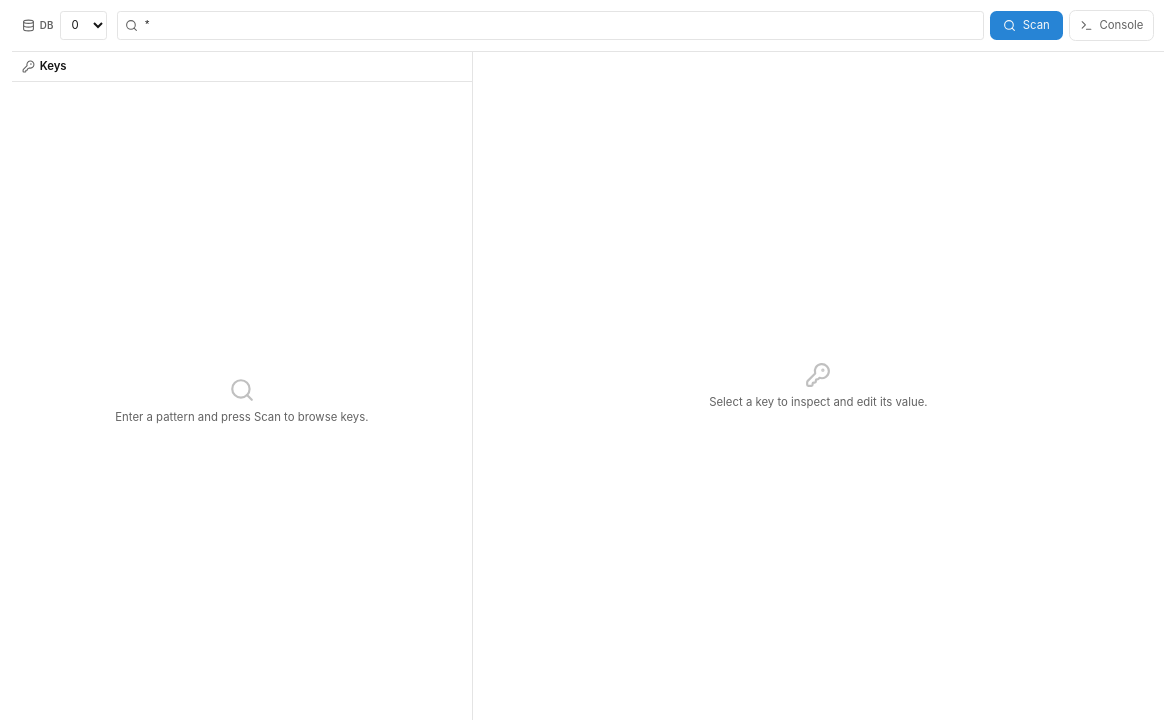
Test: RedisKeyBrowser › deletes the selected key via del and removes it from the list
This screenshot has width=1164, height=720.
Click the button "Scan" at (1027, 25), box [990,11,1063,40]
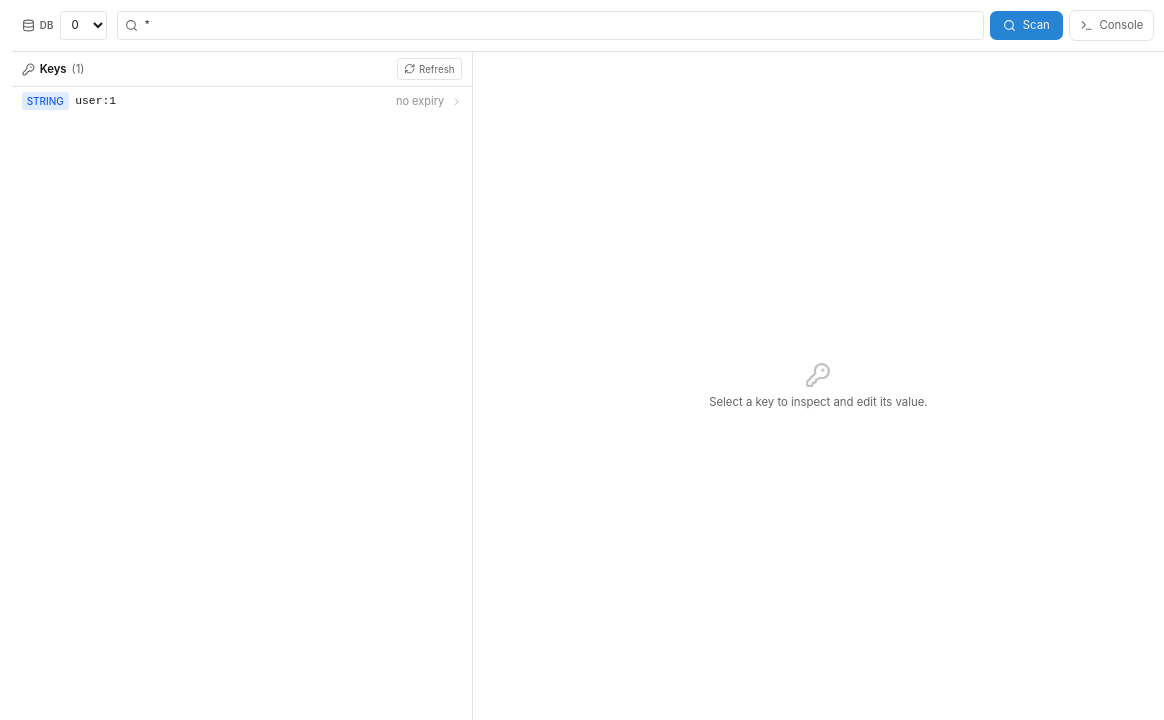
Click the text "user:1" at (96, 101), box [75,95,116,107]
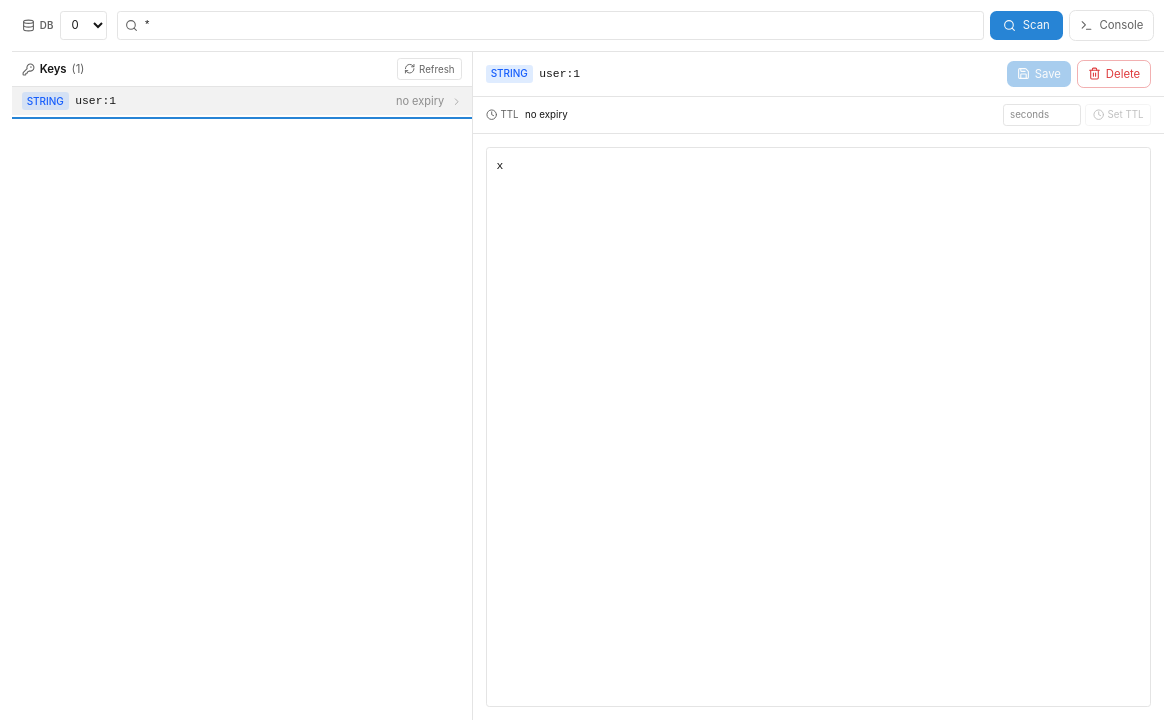
Result: the text box showing "x" is shown at [486,147,1151,707]
Click the button "Delete" at (1114, 74), box [1077,60,1151,88]
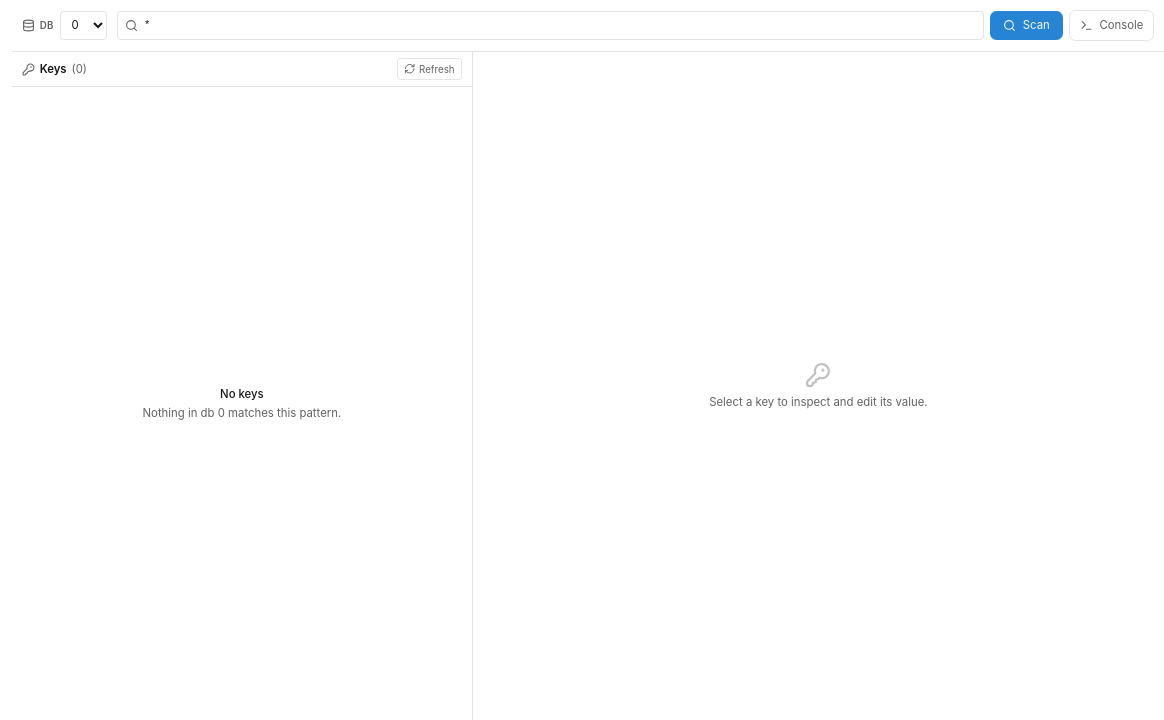
Result: the button "user:1" is gone
